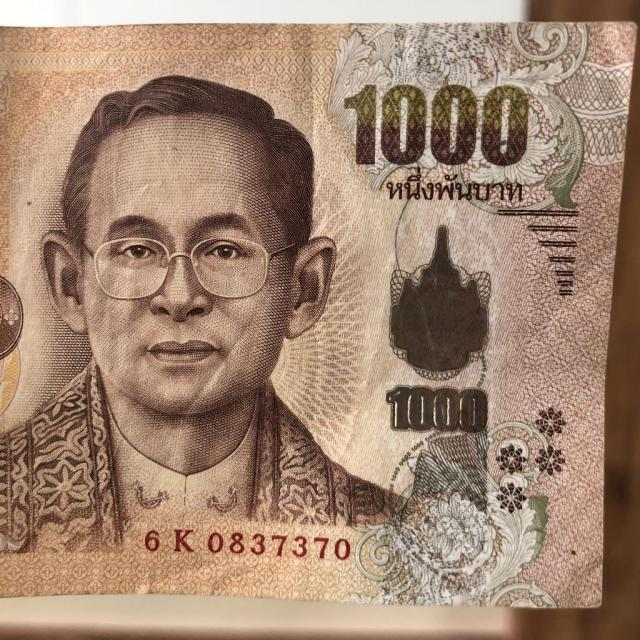THAI1000: (0, 22, 635, 609)
